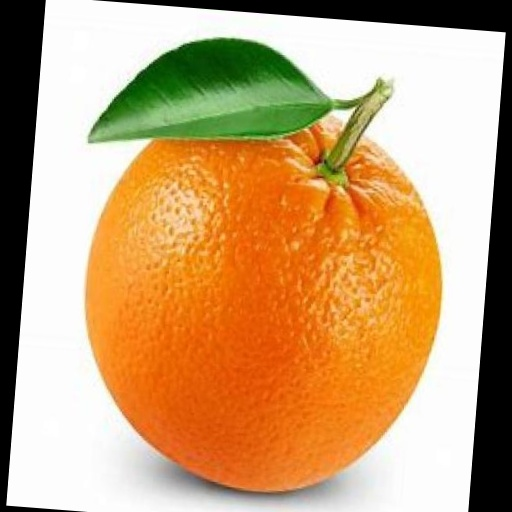fruit: (86, 119, 441, 491)
